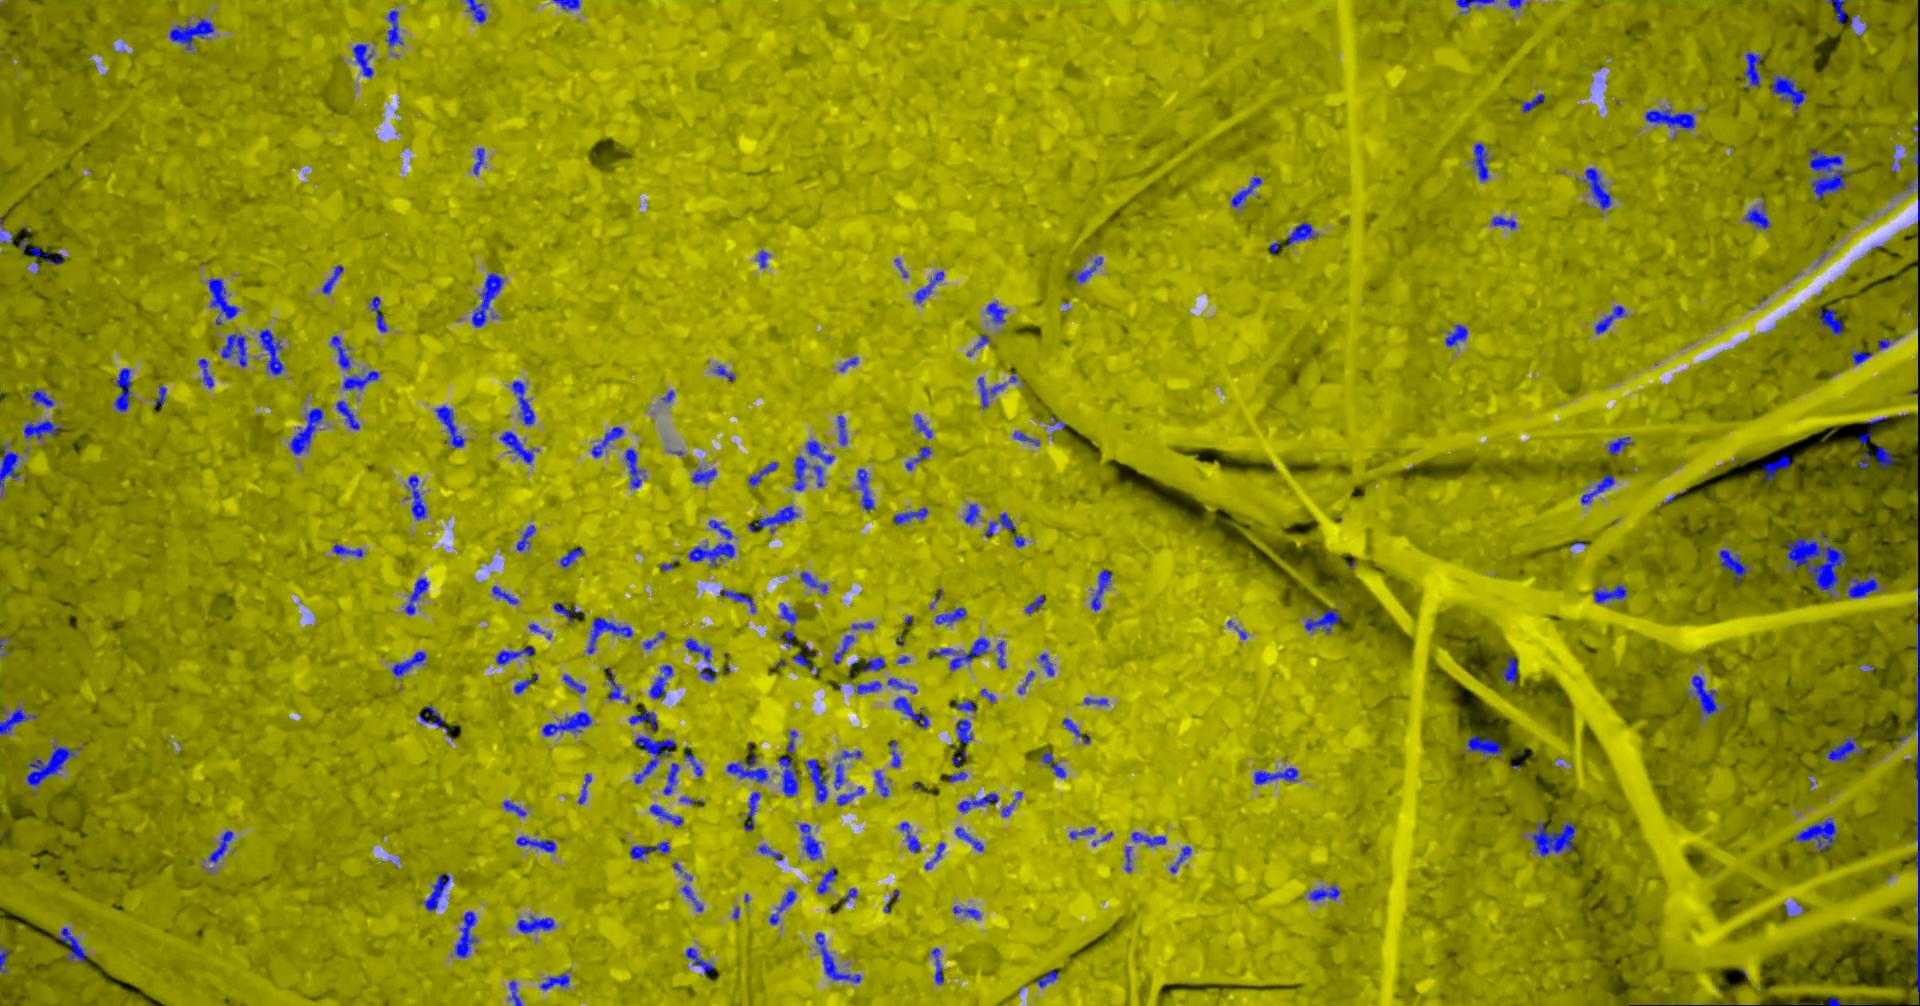ant: (1912, 622, 1919, 1005), (814, 932, 860, 982), (687, 520, 734, 567), (25, 742, 74, 786), (928, 636, 989, 669), (632, 735, 674, 782), (585, 617, 632, 653), (471, 272, 502, 326), (290, 406, 323, 453), (1530, 822, 1575, 856), (169, 18, 215, 50), (208, 278, 239, 324), (1793, 817, 1836, 848), (747, 506, 797, 532), (777, 730, 797, 796), (684, 638, 716, 680), (499, 431, 538, 464), (1769, 75, 1804, 111), (434, 405, 463, 447), (1583, 166, 1611, 210), (541, 711, 590, 735), (258, 328, 283, 373), (1689, 674, 1717, 715), (726, 754, 767, 782), (20, 238, 62, 264), (510, 380, 535, 426), (893, 696, 928, 727), (590, 426, 623, 457), (792, 456, 823, 490), (1580, 474, 1614, 504), (1644, 109, 1695, 130), (0, 708, 37, 735), (1718, 549, 1747, 583), (455, 911, 476, 956), (423, 873, 450, 909), (768, 889, 796, 923), (1230, 177, 1261, 207), (914, 271, 943, 302), (58, 927, 85, 962), (805, 760, 827, 801), (0, 445, 18, 495), (405, 475, 425, 520), (418, 705, 447, 735), (404, 577, 428, 614), (719, 589, 756, 614), (1594, 305, 1625, 333), (1090, 569, 1111, 610), (221, 333, 246, 367), (391, 650, 425, 676), (1304, 608, 1340, 633), (604, 667, 629, 702), (1826, 737, 1862, 761), (977, 376, 1004, 406), (1845, 572, 1878, 597), (648, 664, 672, 699), (1070, 257, 1102, 282), (623, 448, 644, 488), (208, 829, 232, 862), (113, 367, 131, 412), (984, 512, 1015, 537), (957, 793, 998, 812), (856, 467, 874, 511), (799, 823, 820, 859), (1285, 222, 1317, 246), (342, 370, 378, 390), (1761, 455, 1790, 480), (954, 826, 983, 851), (352, 43, 373, 77), (649, 804, 683, 826), (747, 461, 777, 485), (516, 915, 554, 934), (629, 841, 669, 859), (1253, 767, 1297, 784), (1817, 307, 1843, 335), (684, 948, 712, 973), (805, 439, 834, 464), (495, 647, 535, 664), (516, 835, 555, 852), (330, 335, 350, 370), (1743, 51, 1763, 86), (23, 420, 58, 439), (1465, 735, 1501, 754), (1040, 751, 1065, 777), (337, 400, 359, 429), (832, 634, 855, 663), (385, 9, 403, 46), (1470, 144, 1488, 180), (1743, 202, 1769, 227), (899, 821, 919, 852), (370, 296, 387, 332), (743, 791, 759, 829), (905, 446, 931, 470), (893, 507, 927, 525), (321, 265, 343, 293), (629, 709, 657, 730), (1170, 845, 1191, 873), (681, 885, 703, 911), (799, 572, 827, 592), (1592, 586, 1627, 602), (924, 842, 945, 869), (538, 972, 569, 989), (836, 786, 863, 805), (817, 866, 836, 894), (1130, 831, 1164, 846), (792, 653, 817, 674), (1001, 791, 1022, 815), (1500, 655, 1517, 685), (1455, 0, 1496, 13), (552, 602, 578, 622), (491, 586, 518, 605), (935, 607, 965, 624), (465, 0, 486, 23), (1444, 324, 1467, 345), (913, 413, 932, 438), (516, 525, 535, 550), (331, 542, 363, 558), (931, 948, 943, 984), (663, 763, 678, 794), (1308, 885, 1338, 901), (888, 677, 916, 694), (559, 547, 583, 567), (683, 752, 702, 776), (198, 358, 213, 387), (1521, 93, 1544, 112), (1608, 436, 1632, 453), (952, 904, 980, 920), (955, 719, 971, 744), (985, 302, 1006, 323), (1876, 446, 1895, 467), (778, 602, 797, 624), (577, 774, 590, 803), (1829, 0, 1846, 23), (30, 389, 53, 406), (643, 631, 665, 649), (563, 674, 585, 692), (874, 770, 889, 796), (1017, 669, 1034, 694), (758, 843, 782, 860), (691, 467, 716, 483), (1037, 653, 1054, 676), (861, 655, 885, 671), (712, 365, 734, 381), (1035, 970, 1057, 987), (1491, 215, 1516, 229), (1013, 431, 1039, 445), (855, 680, 880, 694), (1025, 594, 1043, 614), (836, 415, 847, 445), (964, 503, 979, 525), (503, 800, 524, 815), (1069, 827, 1095, 840), (833, 761, 844, 789), (971, 333, 989, 351), (1062, 718, 1079, 735), (508, 981, 521, 1005), (472, 147, 484, 174), (889, 741, 900, 767), (152, 385, 166, 406), (778, 629, 795, 647), (1851, 351, 1872, 365), (552, 0, 579, 10), (839, 356, 857, 371), (513, 678, 530, 694), (839, 887, 856, 902), (952, 700, 974, 711), (996, 641, 1004, 668), (1857, 451, 1870, 467), (949, 770, 968, 781), (951, 749, 965, 765), (756, 250, 768, 267), (1124, 846, 1131, 873), (0, 946, 8, 973), (1083, 697, 1107, 705), (841, 749, 861, 758), (1506, 0, 1523, 9), (1012, 533, 1023, 546), (851, 622, 872, 629), (1878, 338, 1890, 349)
